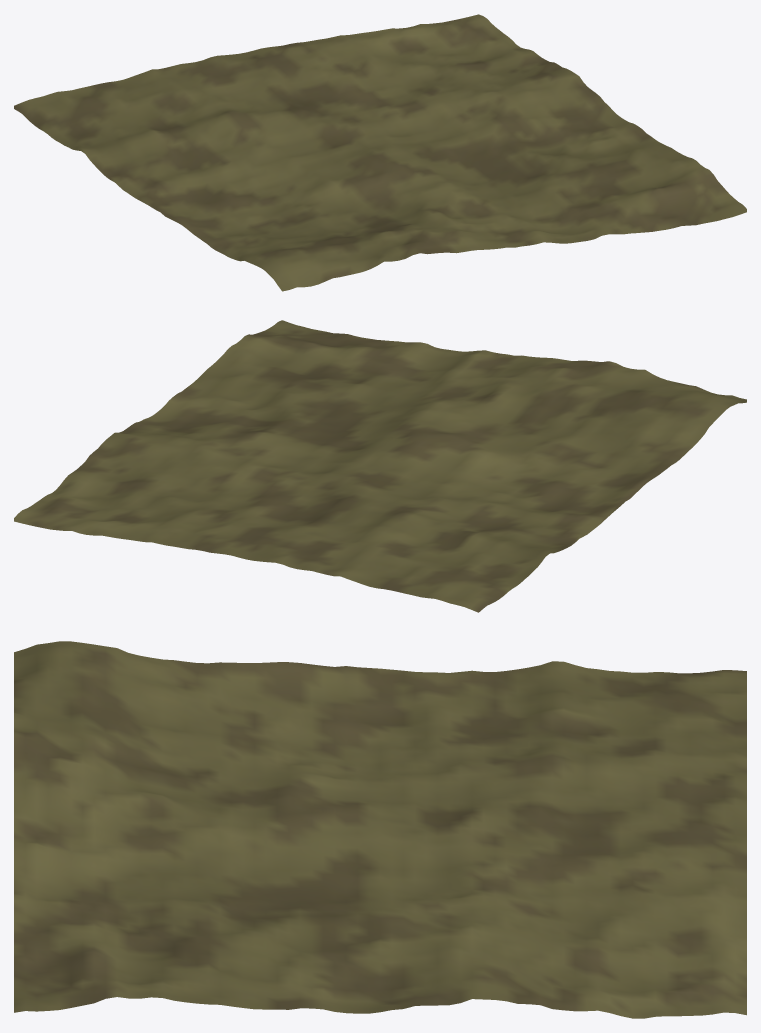
Rendered from land_f_04_10.glb.
3 views of the same model, one above another, from view 1: azimuth 30°, elevation 25°; view 2: azimuth 150°, elevation 25°; view 3: azimuth 270°, elevation 25° (orthographic). The views are drawn at different scales.
Parts seen in each view (by area): view 1: land_f_04_10; view 2: land_f_04_10; view 3: land_f_04_10.
Boxes of the visible parts, <box> form: land_f_04_10: <box>14,14,746,291</box>; land_f_04_10: <box>14,320,746,612</box>; land_f_04_10: <box>14,641,746,1018</box>.
Size of the model in its own units: 3840 by 402 by 3840.
